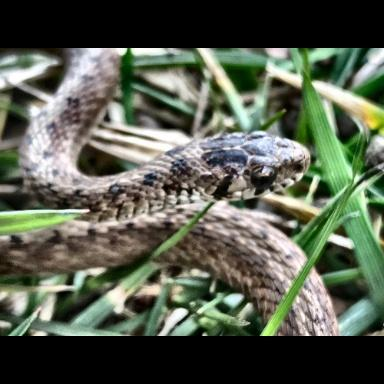snake: (0, 53, 311, 325), (277, 270, 340, 337)
